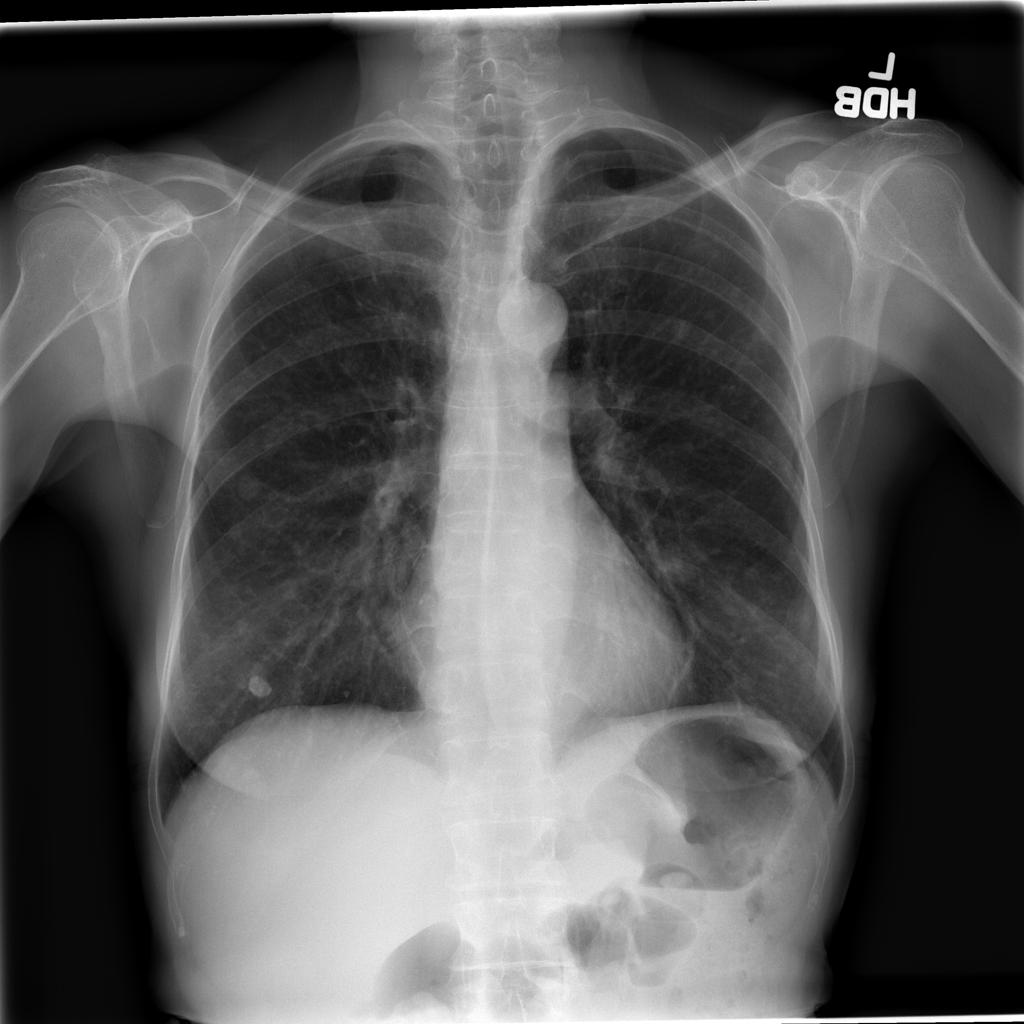nodule: (236, 658, 285, 709), (228, 462, 276, 511), (664, 310, 699, 352)
